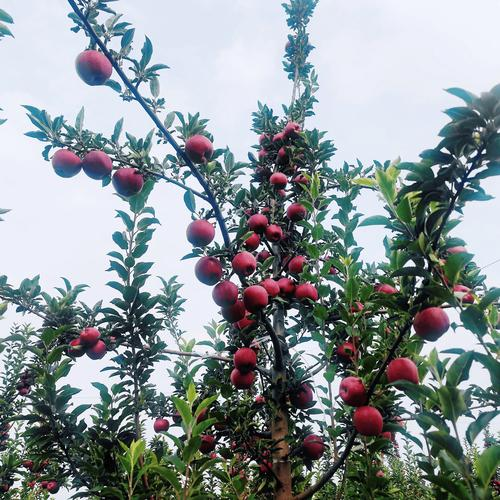ripe: (69, 45, 120, 89), (406, 305, 455, 347), (380, 353, 422, 392), (351, 401, 389, 443), (47, 142, 84, 180), (286, 375, 323, 412), (110, 163, 145, 199), (180, 213, 217, 247), (334, 371, 370, 404), (296, 430, 329, 463), (227, 341, 260, 374), (189, 255, 224, 286), (242, 281, 274, 313), (205, 278, 237, 309), (291, 276, 323, 307), (182, 133, 214, 163), (83, 148, 112, 181), (233, 251, 259, 276), (247, 212, 269, 233), (77, 325, 98, 346), (286, 202, 307, 223)
